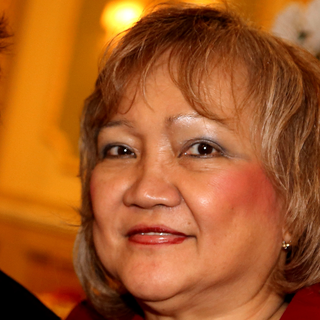eye: (179, 136, 226, 163), (97, 138, 140, 163)
